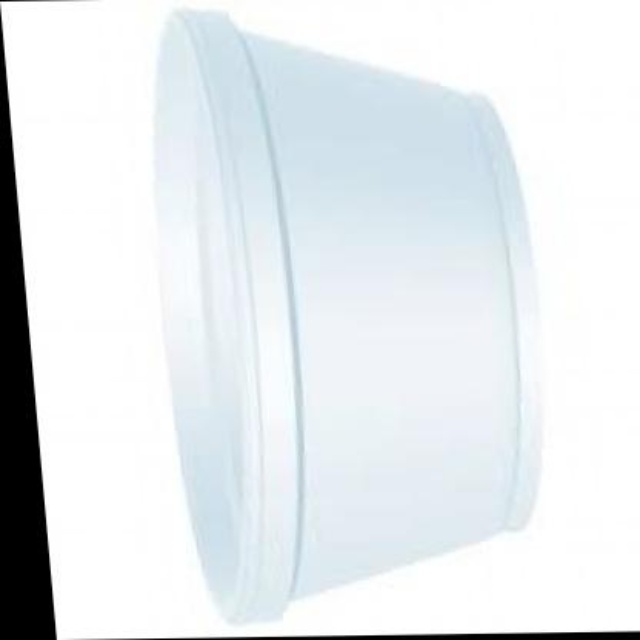trash: (155, 11, 537, 620)
